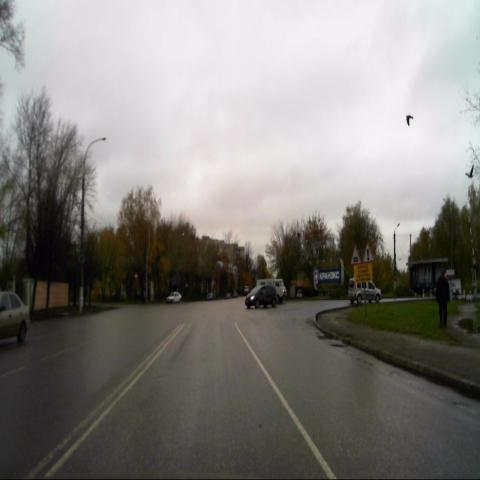1_1: (350, 243, 363, 266)
1_33: (362, 241, 376, 263)
